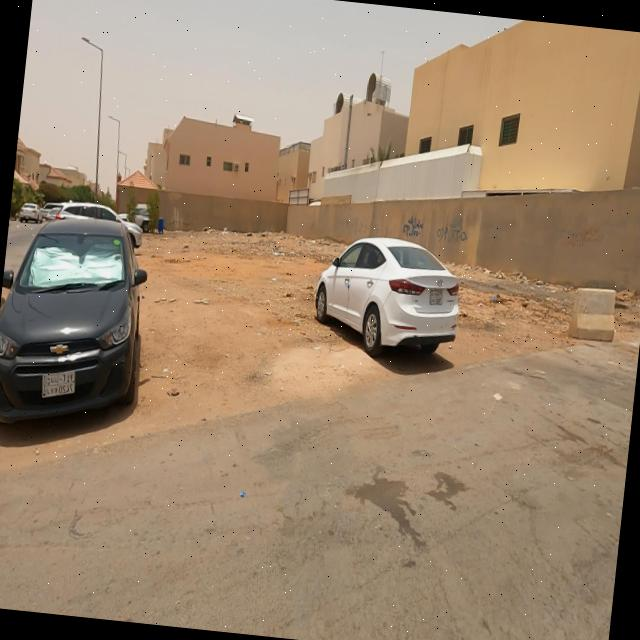Graffiti: (563, 225, 605, 254), (436, 215, 469, 246), (402, 216, 426, 240)
